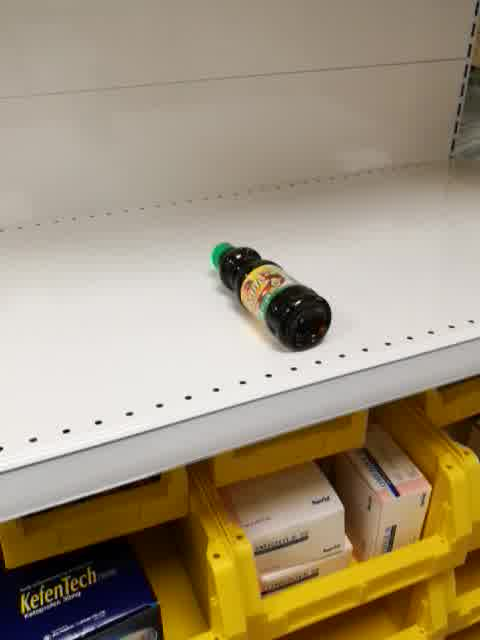cookingoil: (209, 238, 333, 355)
